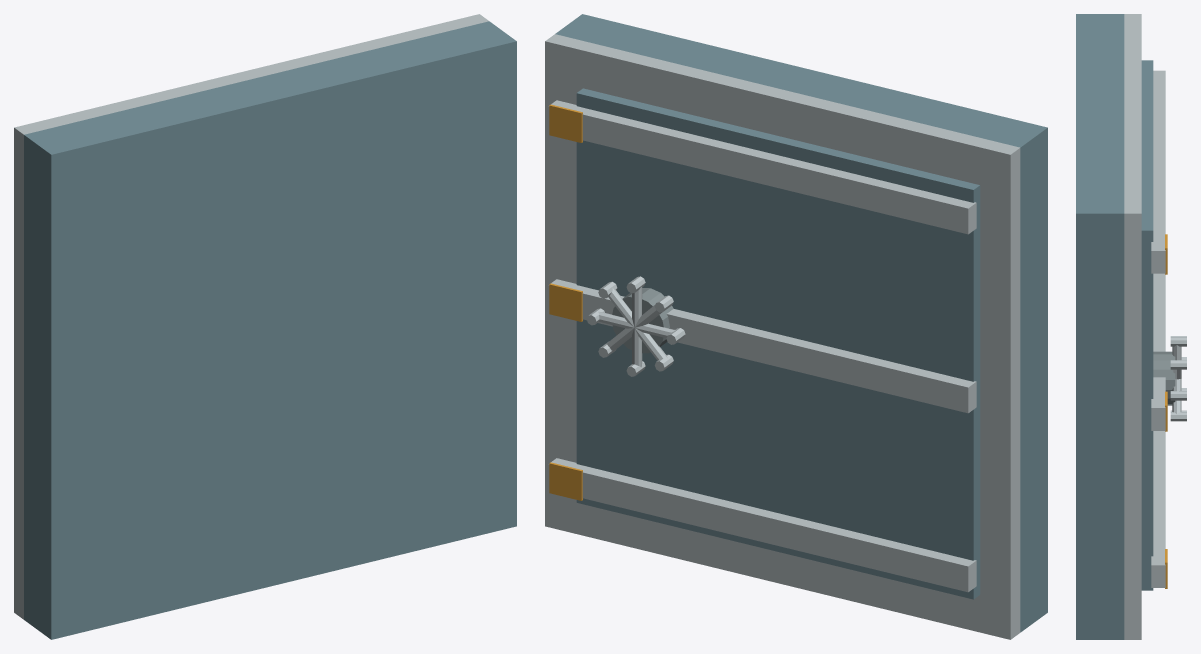
File: body.obj
The picture shows the model from 3 angles, left to right: view 1: azimuth 30°, elevation 25°; view 2: azimuth 150°, elevation 25°; view 3: azimuth 270°, elevation 25°; orthographic projection. The views are drawn at different scales.
Bounding box in the file's own units: 2.45 × 2.44 × 0.575.
